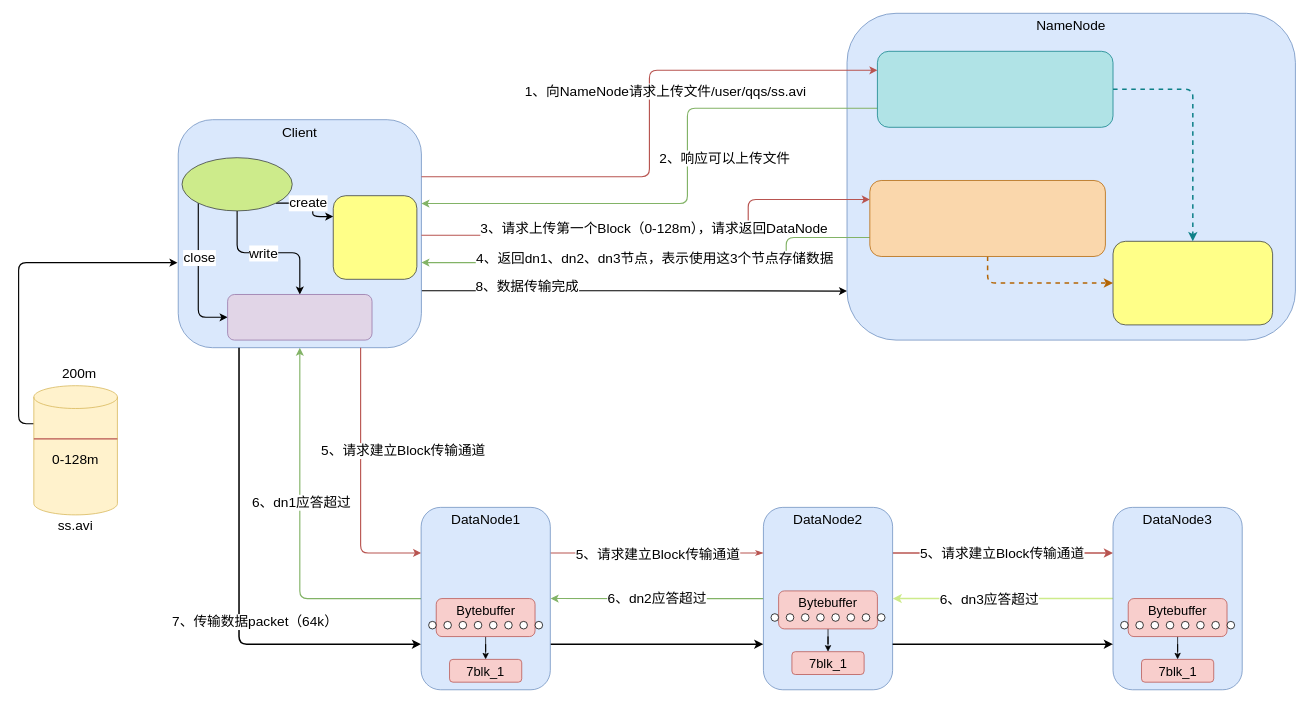
Some shapes in this 1309 by 704 pixel diagram are drawn without their labels. Here are the shapes that lost their labels. From the top down, the centre of each, then its label:
At point (995, 89): "检查目录树是否可以创建文件 2.1、检查权限 2.2、检查目录结构（目录是否存在）".
At point (236, 184): "HDFS Client".
At point (374, 237): "Distributed FileSystem".
At point (987, 218): "副本存储节点选择 4.1、本地节点 4.2、其他机架一个节点 4.3、其他机架另外一个节点".
At point (1192, 283): "MetaData".
At point (299, 317): "FSDataOutputStream".
